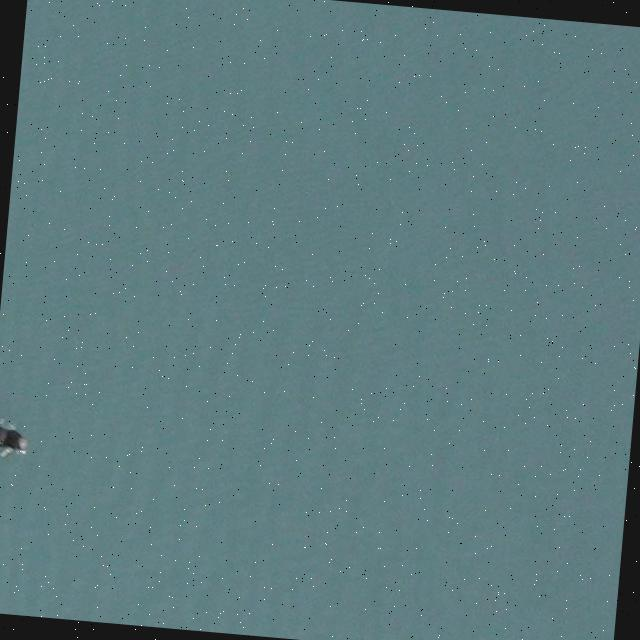seal: (0, 426, 29, 455)
